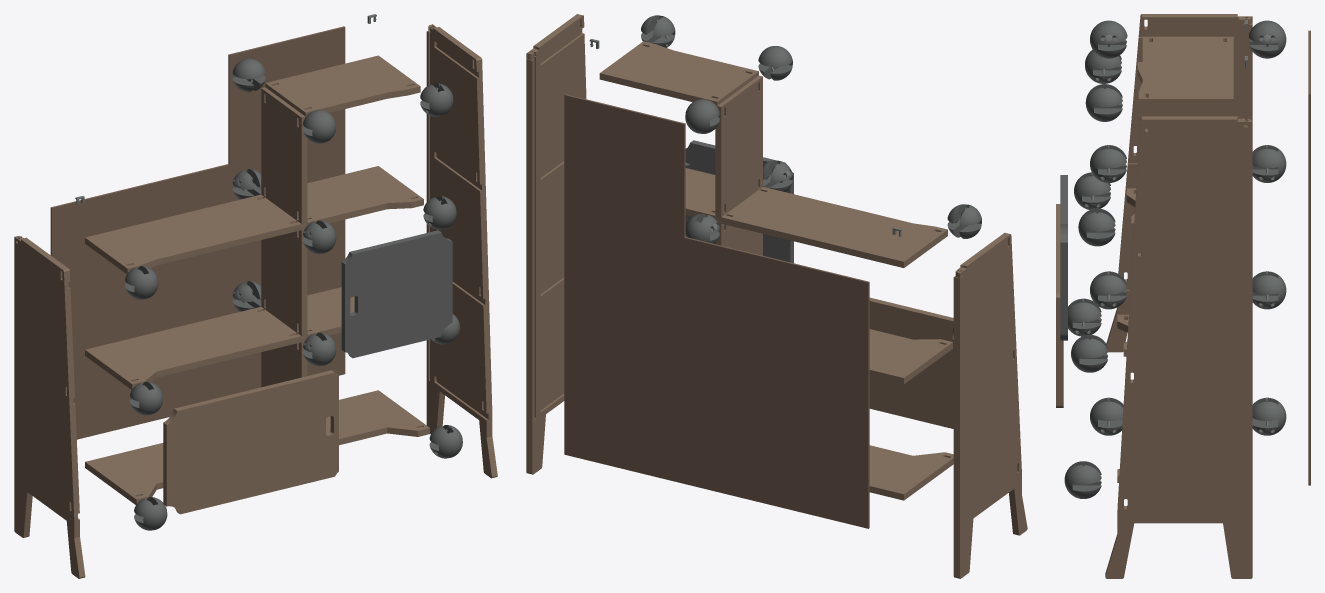
File: exploded.glb
3 renders of one model, left to right at view 1: azimuth 30°, elevation 25°; view 2: azimuth 150°, elevation 25°; view 3: azimuth 270°, elevation 25°, orthographic. The views are drawn at different scales.
Visible parts, largest first — view 1: back-panel, frame-right, door-0, frame-left, shelf-2, door-1, shelf-1, shelf-0, shelf-3, partition-2, partition-1, partition-0 (+12 smaller); view 2: back-panel, frame-left, frame-right, shelf-2, door-0, shelf-3, partition-2, shelf-0, shelf-1, door-1, partition-1, sphere-inner-x600-3-rear (+5 smaller); view 3: frame-right, frame-left, shelf-3, back-panel, door-1, door-0, sphere-side-right-2, sphere-side-right-0, sphere-side-right-1, sphere-side-right-3, sphere-inner-x600-1-front, sphere-inner-x600-2-front (+10 smaller).
Boxes of the visible parts, bbox=[...] form: back-panel: bbox=[50, 26, 345, 439]; frame-right: bbox=[426, 24, 497, 478]; door-0: bbox=[163, 370, 338, 514]; frame-left: bbox=[14, 236, 85, 578]; shelf-2: bbox=[85, 166, 423, 273]; door-1: bbox=[341, 230, 452, 358]; shelf-1: bbox=[85, 287, 354, 389]; shelf-0: bbox=[85, 390, 429, 504]; shelf-3: bbox=[265, 55, 420, 116]; partition-2: bbox=[261, 87, 307, 225]; partition-1: bbox=[261, 227, 307, 337]; partition-0: bbox=[261, 339, 307, 387]; back-panel: bbox=[564, 94, 869, 528]; frame-left: bbox=[953, 232, 1027, 578]; frame-right: bbox=[526, 14, 586, 474]; shelf-2: bbox=[685, 168, 947, 267]; door-0: bbox=[869, 297, 953, 428]; shelf-3: bbox=[599, 41, 758, 105]; partition-2: bbox=[715, 75, 762, 219]; shelf-0: bbox=[869, 445, 953, 500]; shelf-1: bbox=[869, 329, 952, 384]; door-1: bbox=[685, 140, 793, 263]; partition-1: bbox=[715, 220, 762, 255]; sphere-inner-x600-3-rear: bbox=[685, 99, 719, 133]; frame-right: bbox=[1105, 116, 1252, 578]; frame-left: bbox=[1106, 14, 1252, 352]; shelf-3: bbox=[1138, 36, 1233, 105]; back-panel: bbox=[1308, 30, 1310, 485]; door-1: bbox=[1060, 175, 1067, 340]; door-0: bbox=[1056, 204, 1063, 407]; sphere-side-right-2: bbox=[1078, 208, 1115, 246]; sphere-side-right-0: bbox=[1064, 461, 1101, 498]; sphere-side-right-1: bbox=[1071, 334, 1107, 372]; sphere-side-right-3: bbox=[1085, 84, 1122, 121]; sphere-inner-x600-1-front: bbox=[1090, 271, 1126, 309]; sphere-inner-x600-2-front: bbox=[1090, 145, 1126, 182].
Size of the model in its own units: 1.29 by 1.27 by 0.603.
